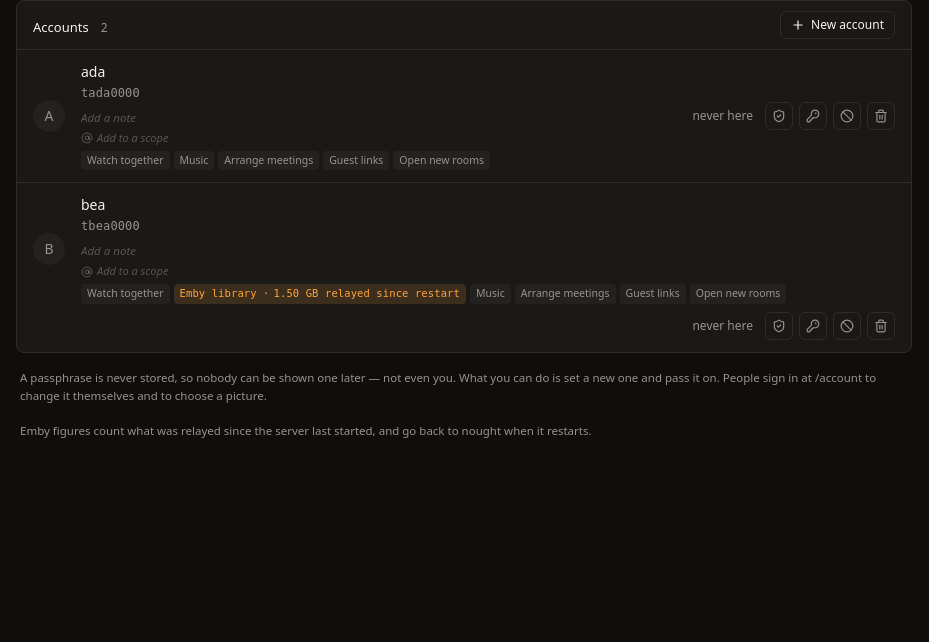
Scenario: the Emby box › says when the switch above every grant is off
Click the 1st button named "Permissions": x=779, y=116 [765,102,793,130]
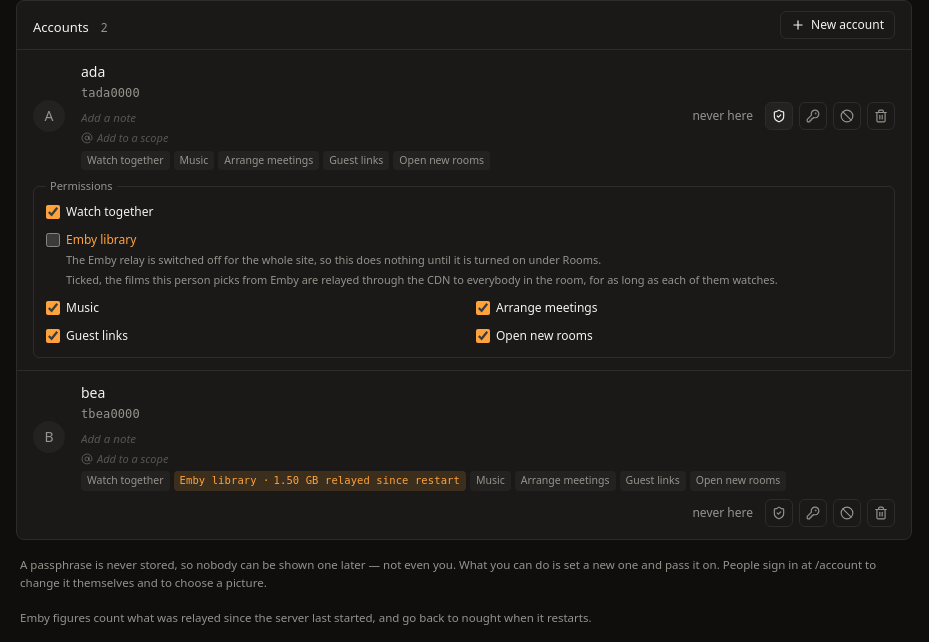
Expected: the text "The Emby relay is switched off for the whole site, so this does nothing until it is turned on under Rooms." is shown, [66,252,601,267]
